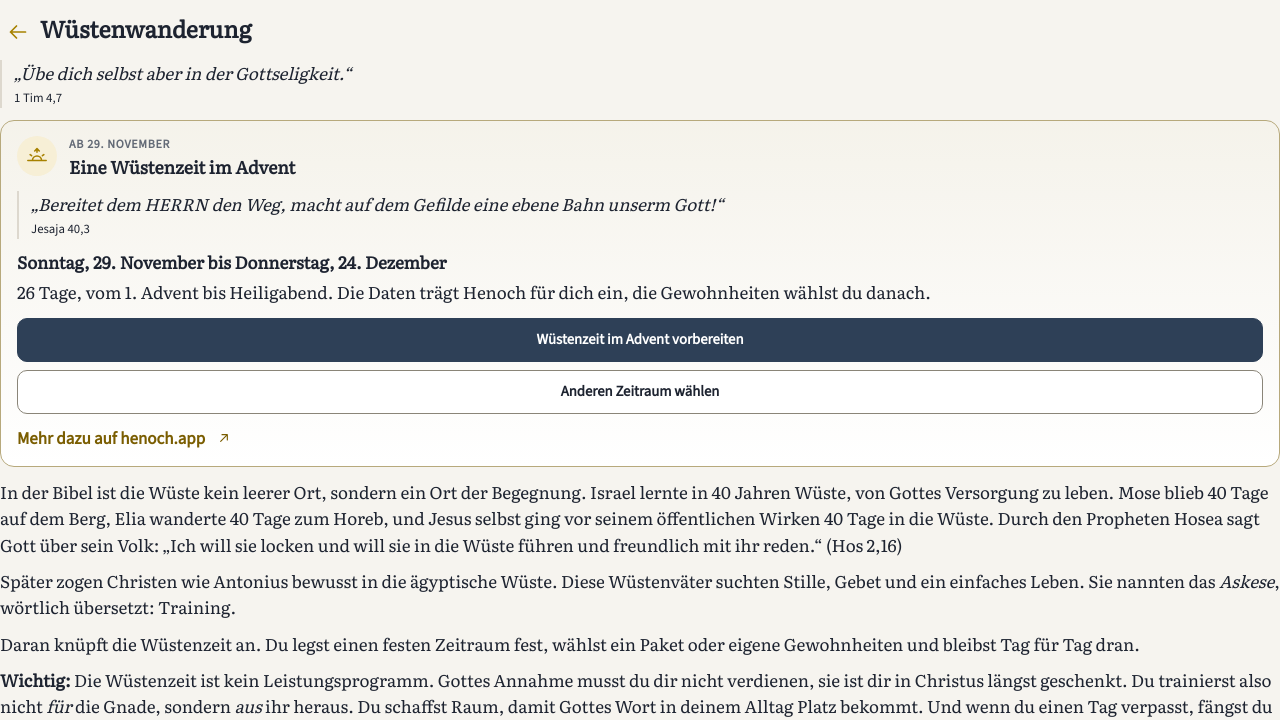
Test case: a Wüstenzeit in Advent › opens an empty start for another span
What coordinates should you click on to do the following:
click the button "Anderen Zeitraum wählen"
I would click on:
 (640, 392)
Its box is [17, 370, 1263, 414].
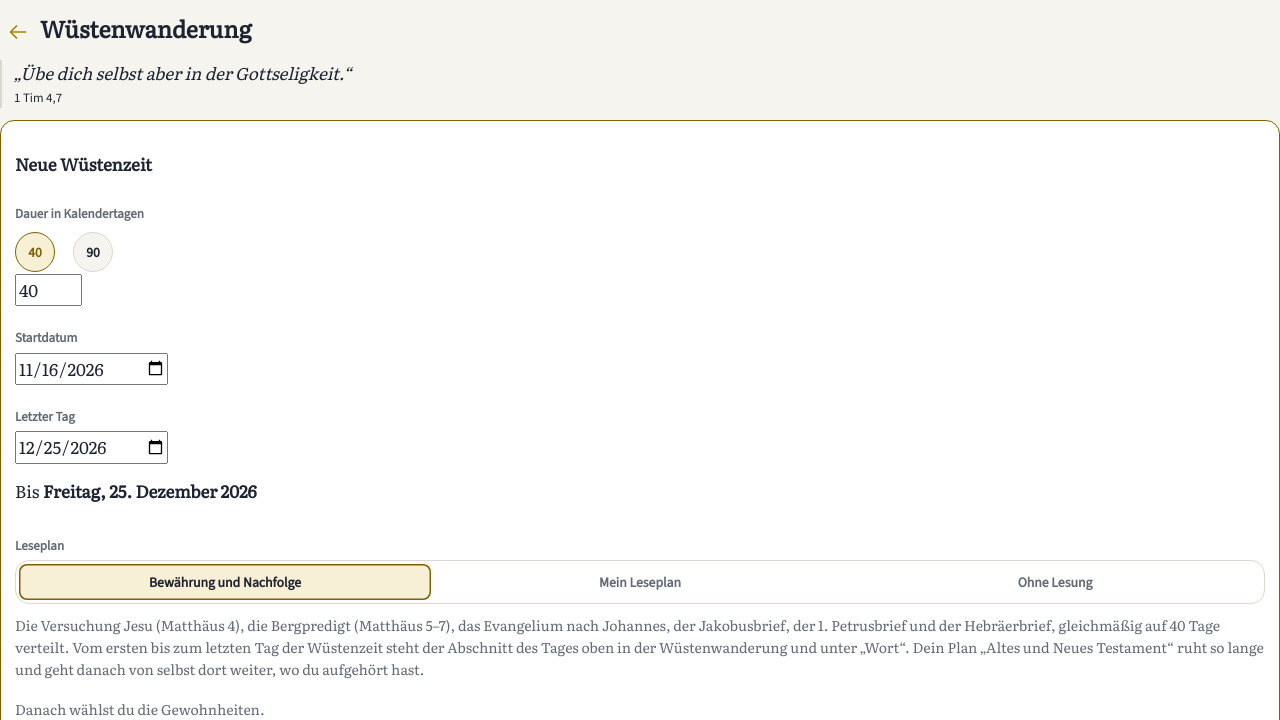
Check: the date field labelled "Startdatum" holds "2026-11-16", box [15, 352, 168, 385]
